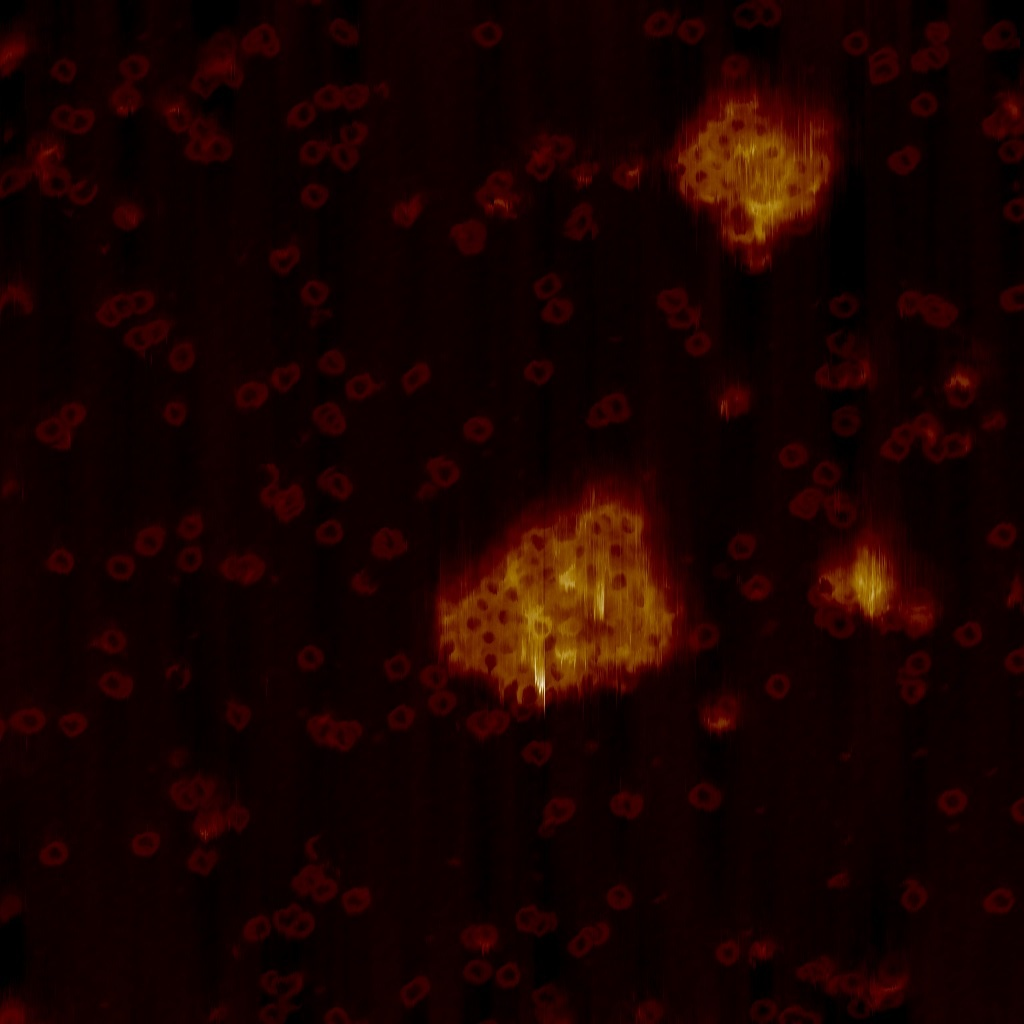-1: (817, 21, 947, 126), (789, 434, 921, 510), (254, 457, 310, 511), (302, 200, 363, 244), (696, 176, 743, 228), (218, 37, 273, 81), (191, 292, 256, 329), (529, 471, 584, 510), (288, 352, 342, 390), (171, 256, 217, 294), (455, 406, 505, 439), (509, 391, 560, 420), (747, 423, 789, 458), (346, 56, 376, 90), (2, 486, 37, 511), (167, 234, 193, 259), (826, 361, 856, 376)
2/4: (161, 150, 193, 183), (591, 404, 619, 436), (300, 322, 328, 350), (318, 491, 351, 511), (272, 390, 293, 421), (1003, 137, 1024, 166), (1009, 283, 1024, 317)
3/4: (632, 485, 674, 510)
4/4: (368, 4, 409, 48), (894, 362, 936, 401), (395, 458, 436, 496), (132, 8, 166, 53), (683, 267, 728, 300), (541, 276, 577, 317), (217, 187, 253, 224), (95, 157, 136, 189), (977, 375, 1018, 406), (185, 334, 223, 367), (934, 275, 975, 305), (55, 197, 89, 233), (952, 109, 989, 142), (609, 275, 646, 308), (986, 6, 1021, 39), (686, 111, 723, 142), (738, 485, 782, 510), (893, 170, 936, 195), (9, 196, 46, 225), (129, 315, 167, 343), (517, 229, 555, 257), (309, 7, 346, 35), (244, 401, 274, 435), (379, 139, 411, 170), (898, 139, 937, 164), (384, 191, 418, 219), (94, 116, 129, 143), (340, 374, 375, 401), (37, 329, 69, 358), (709, 428, 741, 456), (728, 18, 755, 51), (42, 39, 79, 63), (458, 447, 495, 471), (740, 63, 772, 90), (499, 447, 523, 481), (289, 402, 318, 430), (765, 159, 795, 186), (610, 370, 637, 399), (105, 43, 136, 68), (176, 38, 203, 65), (295, 132, 323, 158), (566, 419, 590, 446)
